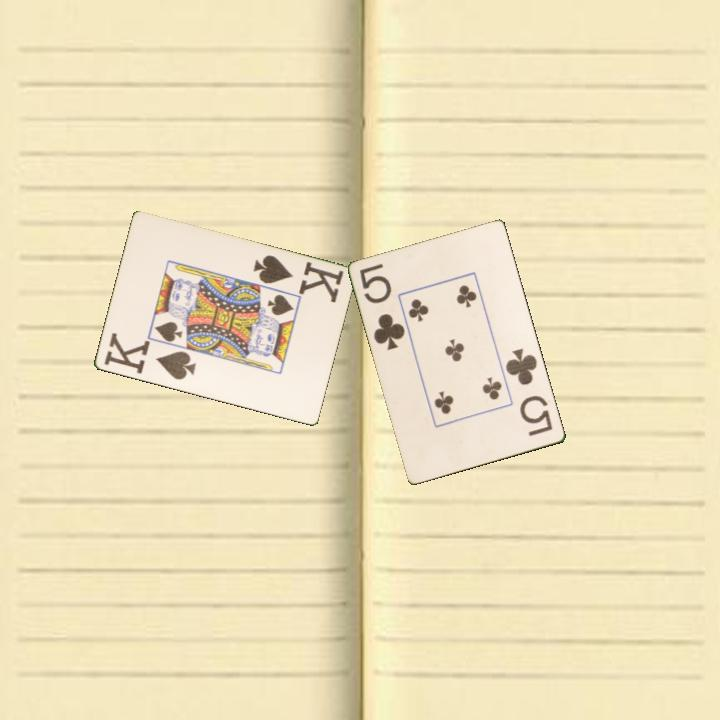5c: (502, 345, 556, 439), (356, 260, 408, 354)
Ks: (100, 330, 199, 383), (249, 251, 346, 305)
